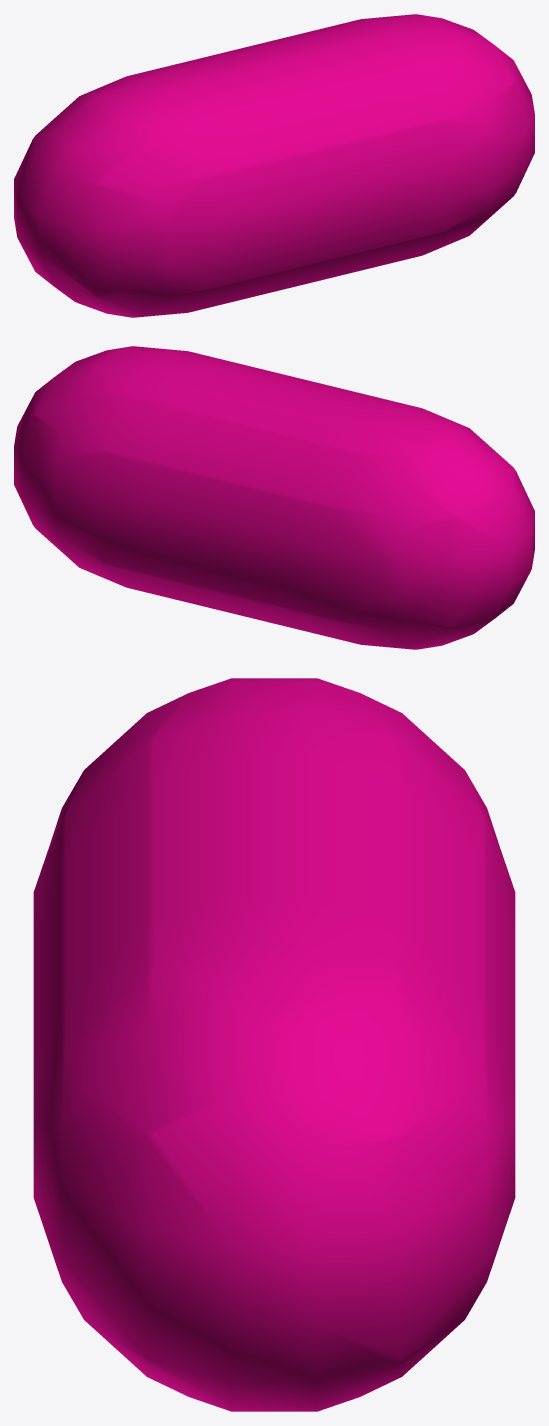
The model's file is Bull.fbx.
3 views of the same model, one above another, from view 1: azimuth 30°, elevation 25°; view 2: azimuth 150°, elevation 25°; view 3: azimuth 270°, elevation 25° (orthographic). The views are drawn at different scales.
Parts seen in each view (by area): view 1: Mball; view 2: Mball; view 3: Mball.
Boxes of the visible parts, x1,y1,x2,y2 form: Mball: [14, 14, 534, 317]; Mball: [14, 346, 534, 649]; Mball: [33, 678, 515, 1411].
Bounding box in the file's own units: 53.57 × 22.67 × 22.67.
